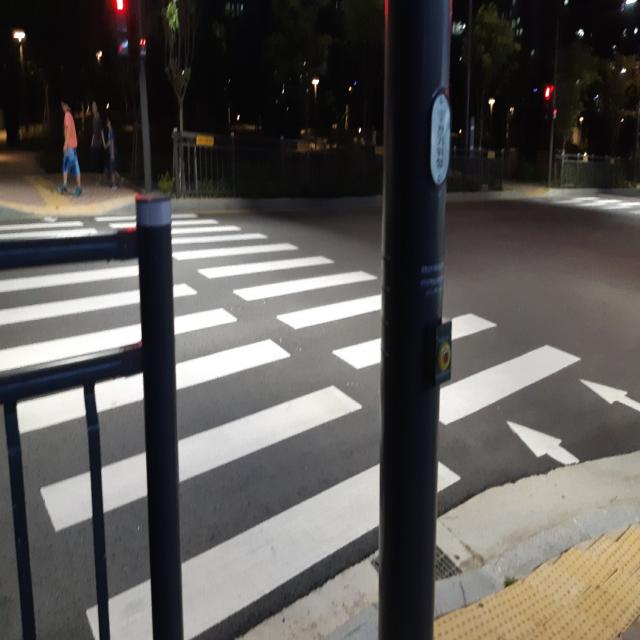빨간불: (112, 0, 131, 58)
횡단보도: (0, 211, 640, 640)
